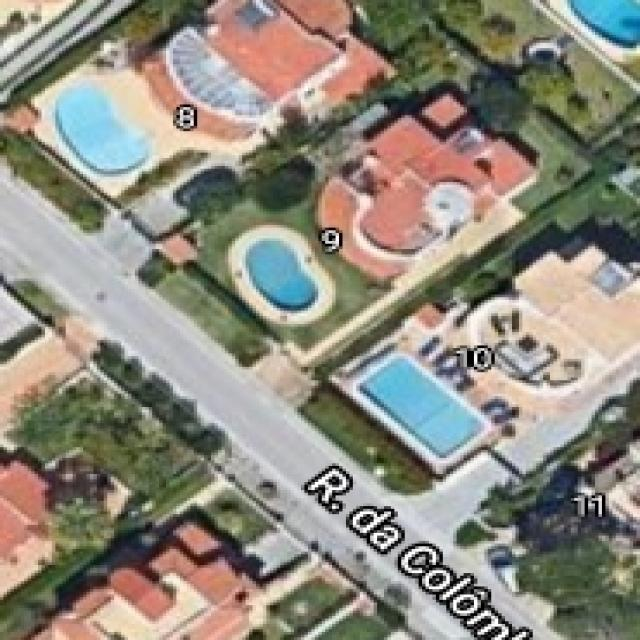pool: (346, 345, 488, 466), (45, 75, 157, 184), (235, 230, 329, 318), (560, 0, 640, 58)
